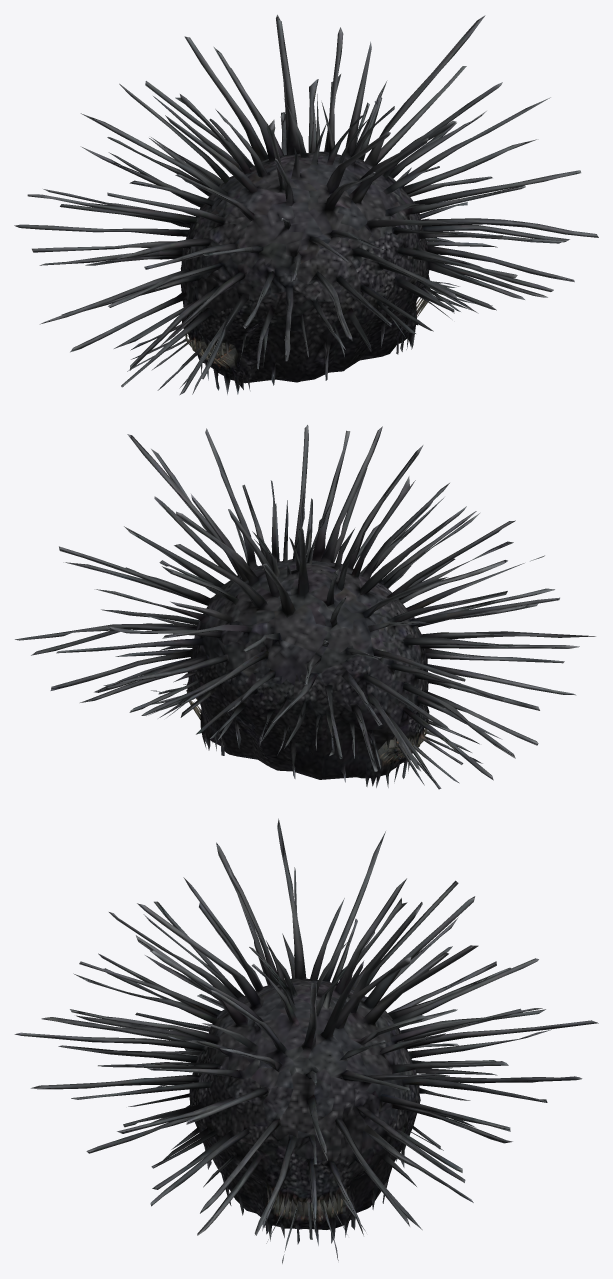
File: urchin.glb
3 renders of one model, top to bottom at view 1: azimuth 30°, elevation 25°; view 2: azimuth 150°, elevation 25°; view 3: azimuth 270°, elevation 25°, orthographic. The views are drawn at different scales.
Visible parts, largest first — view 1: tripo_node_23b9618b-1491-4f73-be2e-db2794c07666; view 2: tripo_node_23b9618b-1491-4f73-be2e-db2794c07666; view 3: tripo_node_23b9618b-1491-4f73-be2e-db2794c07666.
Boxes of the visible parts, <box> form: tripo_node_23b9618b-1491-4f73-be2e-db2794c07666: <box>14,14,598,395</box>; tripo_node_23b9618b-1491-4f73-be2e-db2794c07666: <box>15,425,595,789</box>; tripo_node_23b9618b-1491-4f73-be2e-db2794c07666: <box>14,818,598,1263</box>.
Size of the model in its own units: 0.9914 by 0.5853 by 1.
1 material, 1 textured.
